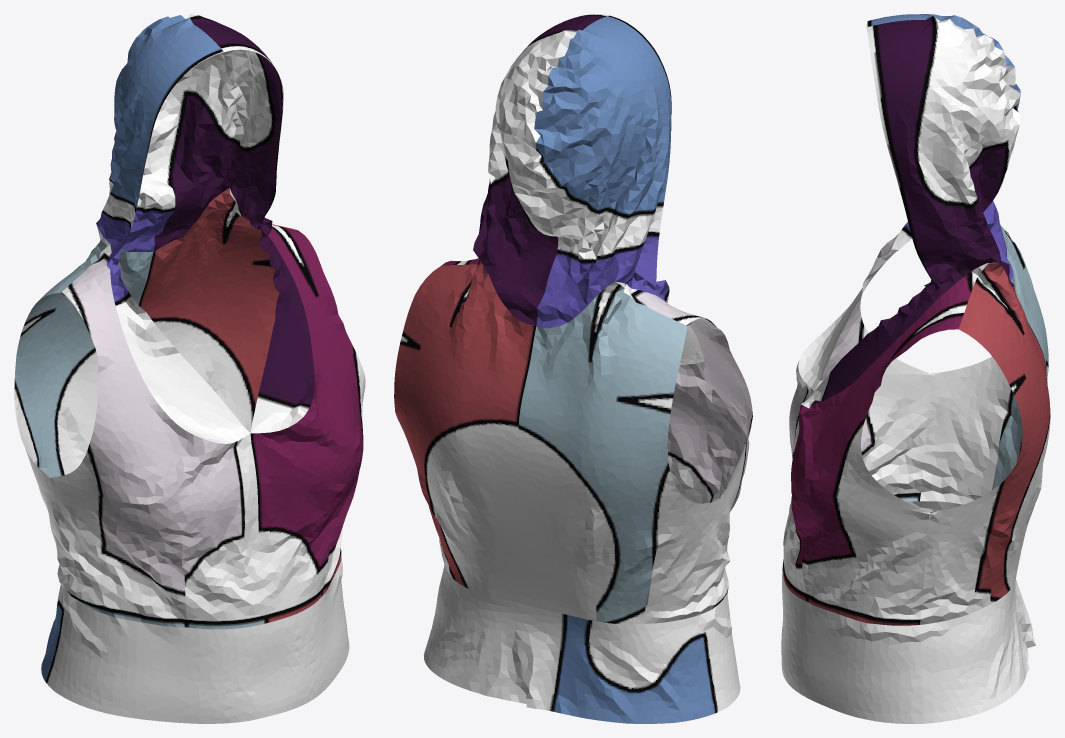
The model's file is gcdv2_mvp_000018.obj.
3 views of the same model, side by side, from view 1: azimuth 30°, elevation 25°; view 2: azimuth 150°, elevation 25°; view 3: azimuth 270°, elevation 25° (orthographic).
Size of the model in its own units: 34.48 by 73.92 by 27.87.
Materials: 1 (1 with a texture image).
